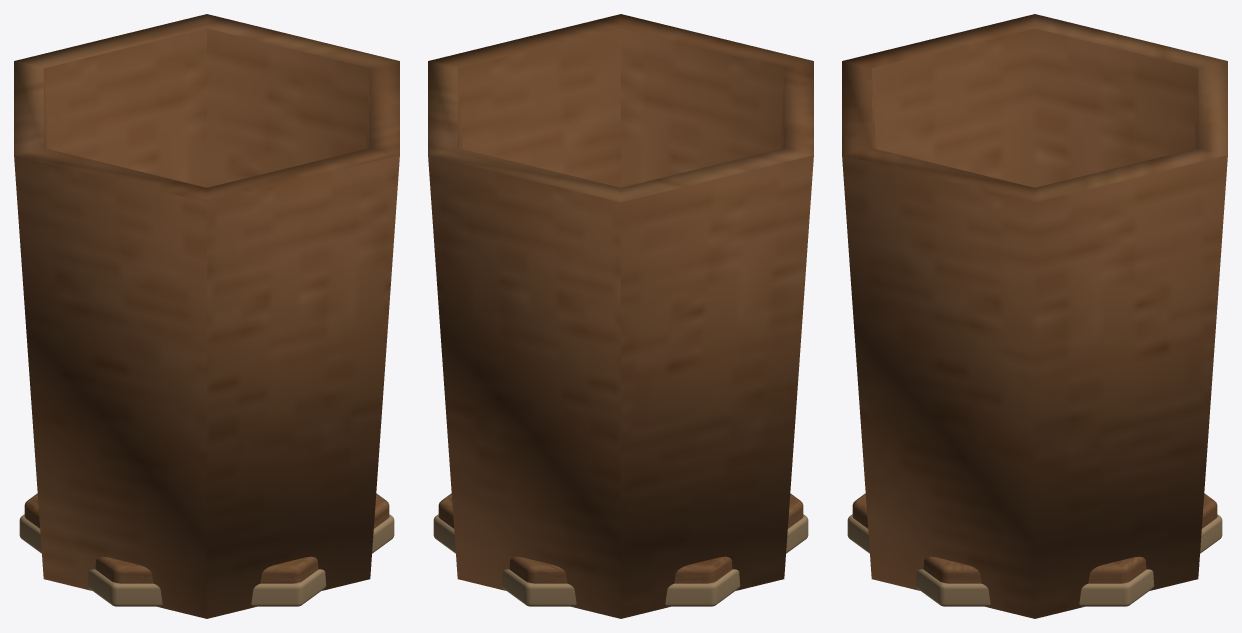
File: pencil_cup.glb
3 renders of one model, left to right at view 1: azimuth 30°, elevation 25°; view 2: azimuth 150°, elevation 25°; view 3: azimuth 270°, elevation 25°, orthographic.
Parts seen in each view (by area): view 1: Open hexagonal walnut pencil well, Cup narrow bronze foot; view 2: Open hexagonal walnut pencil well, Cup narrow bronze foot; view 3: Open hexagonal walnut pencil well, Cup narrow bronze foot.
Part boxes in pixels (left/top/right/bottom): Open hexagonal walnut pencil well: left=14, top=14, right=399, bottom=618; Cup narrow bronze foot: left=19, top=514, right=394, bottom=606; Open hexagonal walnut pencil well: left=428, top=14, right=813, bottom=618; Cup narrow bronze foot: left=433, top=514, right=808, bottom=606; Open hexagonal walnut pencil well: left=842, top=14, right=1227, bottom=618; Cup narrow bronze foot: left=847, top=514, right=1222, bottom=606.
Size of the model in its own units: 0.104 by 0.111 by 0.0901.
2 materials, 2 textured.
